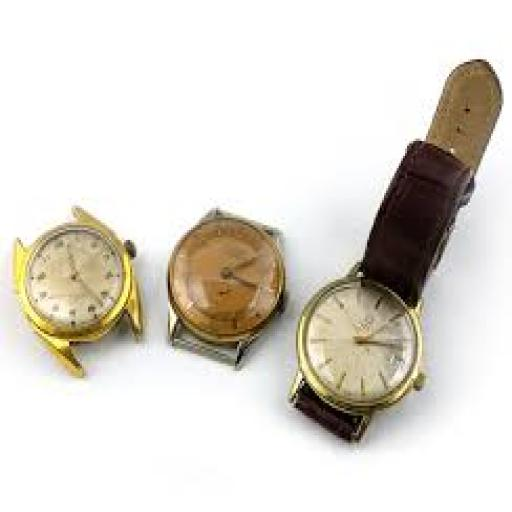KolSaati: (304, 78, 505, 440), (148, 180, 293, 388), (8, 189, 146, 363)
